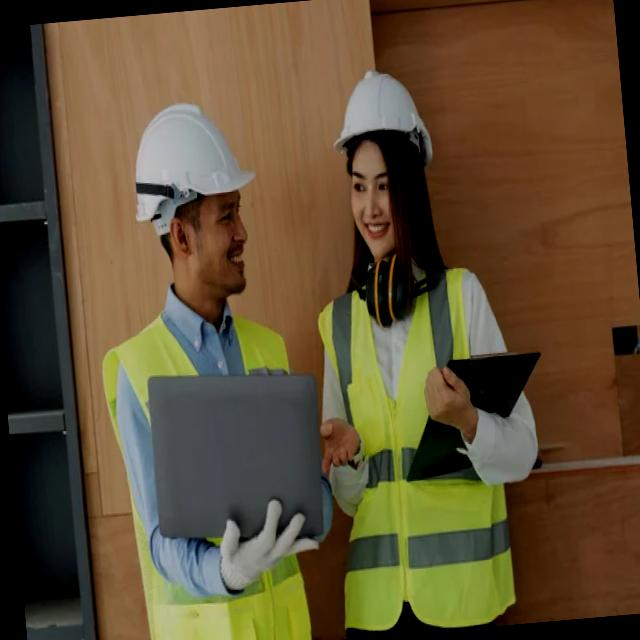helmet: (120, 86, 274, 238), (321, 50, 448, 168)
no-goggles: (334, 150, 421, 205), (172, 193, 249, 242)
vest: (310, 255, 528, 639), (103, 291, 311, 640)
